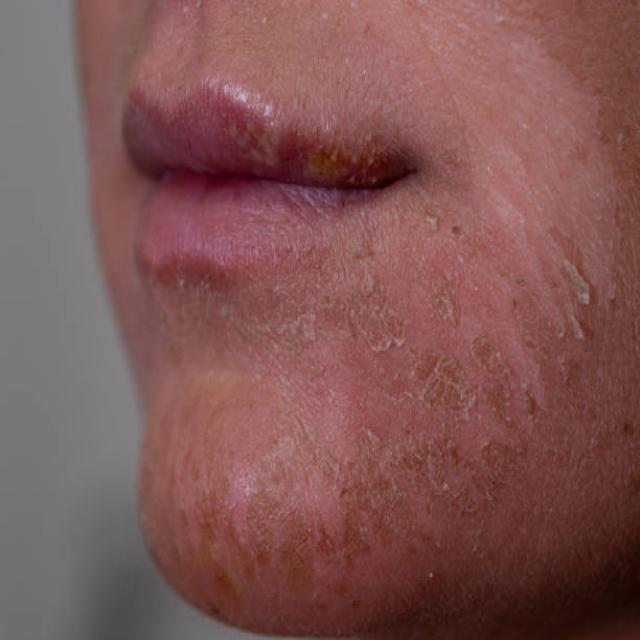flakiness: (333, 286, 515, 424)
